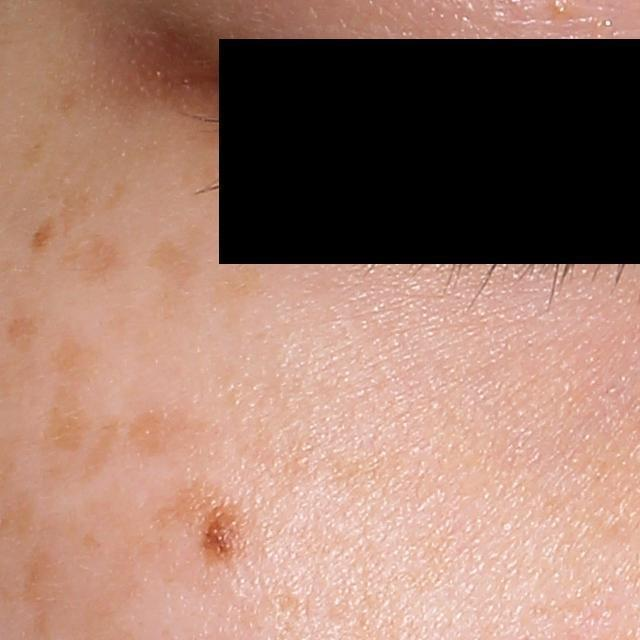melasma: (38, 326, 105, 457), (124, 399, 203, 454), (74, 407, 122, 487), (151, 477, 213, 536), (56, 237, 131, 279), (147, 240, 209, 282), (216, 261, 264, 301), (19, 121, 55, 170), (24, 217, 60, 255), (9, 312, 39, 354), (54, 82, 85, 114), (100, 176, 125, 212)
nevus: (191, 506, 244, 565)
